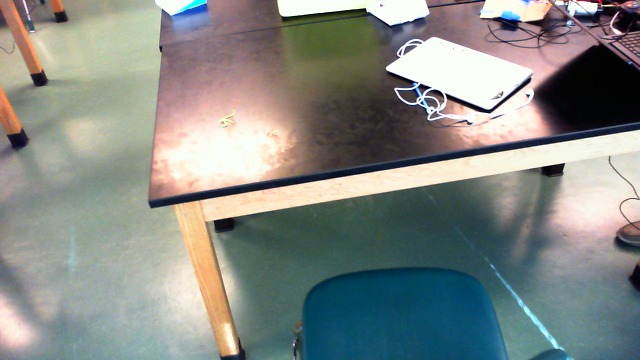cube: (277, 1, 372, 19)
